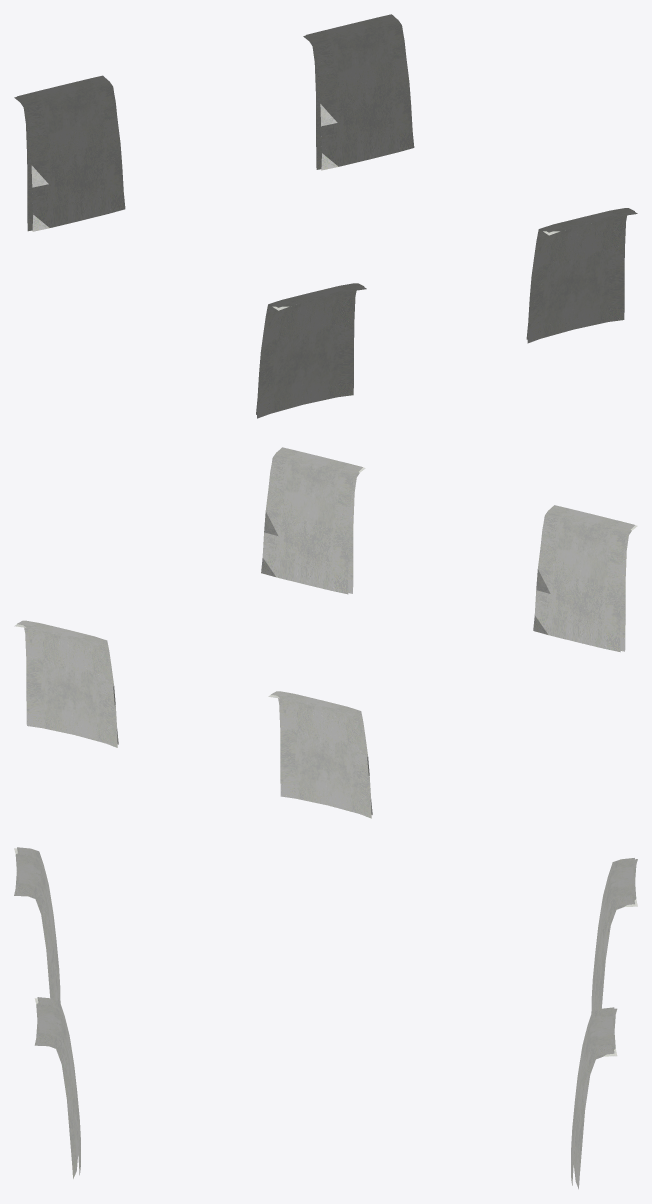
The model's file is stg110_MotWater_23.obj.
3 renders of one model, top to bottom at view 1: azimuth 30°, elevation 25°; view 2: azimuth 150°, elevation 25°; view 3: azimuth 270°, elevation 25°, orthographic. The views are drawn at different scales.
Visible parts, largest first — view 1: polygon2, polygon0, polygon7, polygon5, polygon6, polygon4, polygon1, polygon3; view 2: polygon4, polygon6, polygon3, polygon1, polygon2, polygon0, polygon5, polygon7; view 3: polygon6, polygon2, polygon4, polygon0, polygon3, polygon7, polygon5, polygon1.
Part boxes in pixels (x1,y1,x2,y2): polygon2: [306, 14, 414, 170]; polygon0: [17, 75, 125, 231]; polygon7: [527, 211, 637, 343]; polygon5: [257, 286, 366, 418]; polygon6: [526, 208, 634, 339]; polygon4: [256, 283, 364, 414]; polygon1: [14, 80, 116, 231]; polygon3: [303, 18, 405, 169]; polygon4: [533, 505, 634, 652]; polygon6: [261, 447, 362, 594]; polygon3: [14, 624, 117, 747]; polygon1: [268, 694, 371, 818]; polygon2: [17, 620, 118, 744]; polygon0: [271, 691, 372, 814]; polygon5: [541, 510, 637, 651]; polygon7: [269, 452, 365, 593]; polygon6: [37, 997, 80, 1175]; polygon2: [571, 1007, 614, 1185]; polygon4: [17, 847, 60, 1002]; polygon0: [591, 858, 634, 1013]; polygon3: [573, 1008, 617, 1189]; polygon7: [34, 998, 78, 1178]; polygon5: [14, 848, 57, 999]; polygon1: [594, 859, 637, 1010].
Size of the model in its own units: 610 by 180 by 758.
